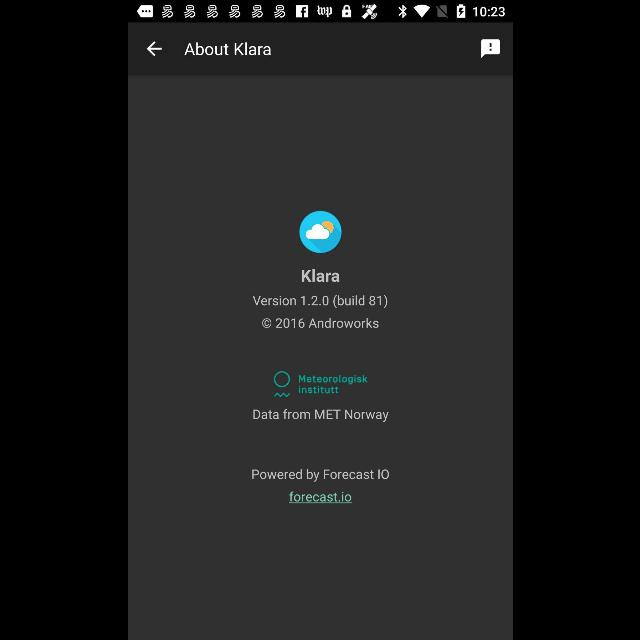icon: (480, 40, 500, 59), (146, 41, 162, 57)
image: (298, 210, 342, 253)
text: (251, 469, 389, 483), (252, 408, 388, 422), (251, 295, 387, 309), (260, 317, 378, 329), (184, 42, 270, 56), (288, 491, 352, 504), (301, 269, 339, 283)
toolbar: (128, 23, 512, 75)
uppertaskbar: (128, 1, 512, 23)
